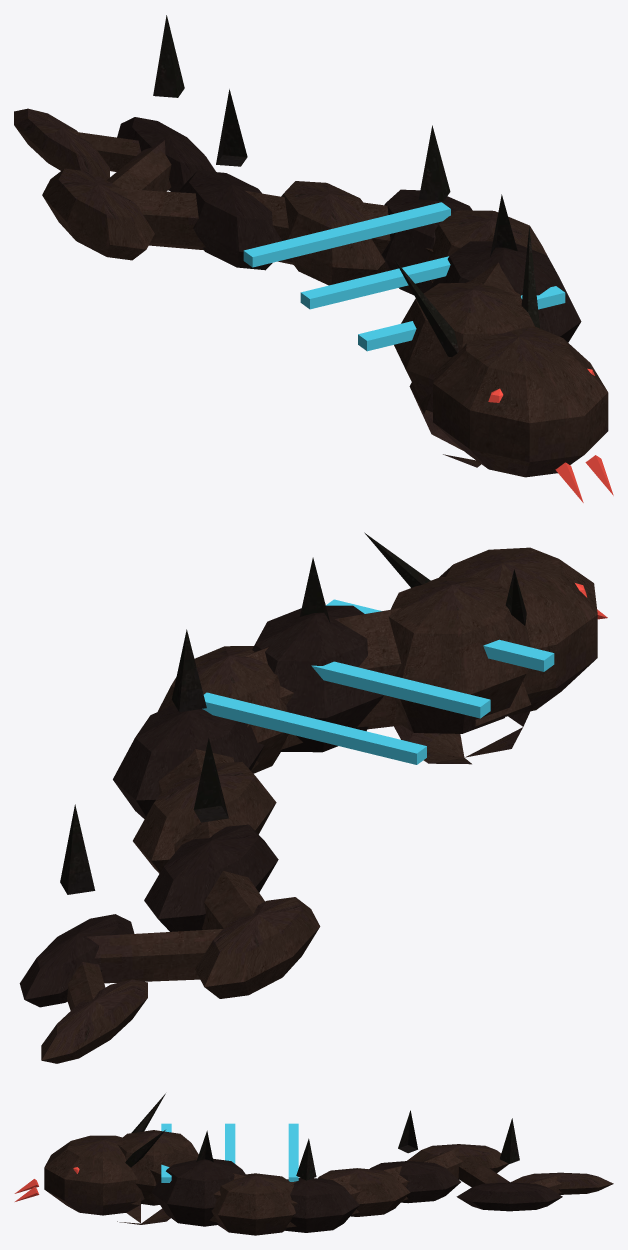
Rendered from boss_07.glb.
3 renders of one model, top to bottom at view 1: azimuth 30°, elevation 25°; view 2: azimuth 150°, elevation 25°; view 3: azimuth 270°, elevation 25°, orthographic. The views are drawn at different scales.
Parts seen in each view (by area): view 1: boss_07; view 2: boss_07; view 3: boss_07.
Boxes of the visible parts, box(x1,y1,x2,y2) form: boss_07: box(14, 15, 613, 502); boss_07: box(19, 532, 607, 1063); boss_07: box(14, 1093, 613, 1235).
Bounding box in the file's own units: 2.24 × 1.49 × 7.08.
5 materials, 5 textured.
